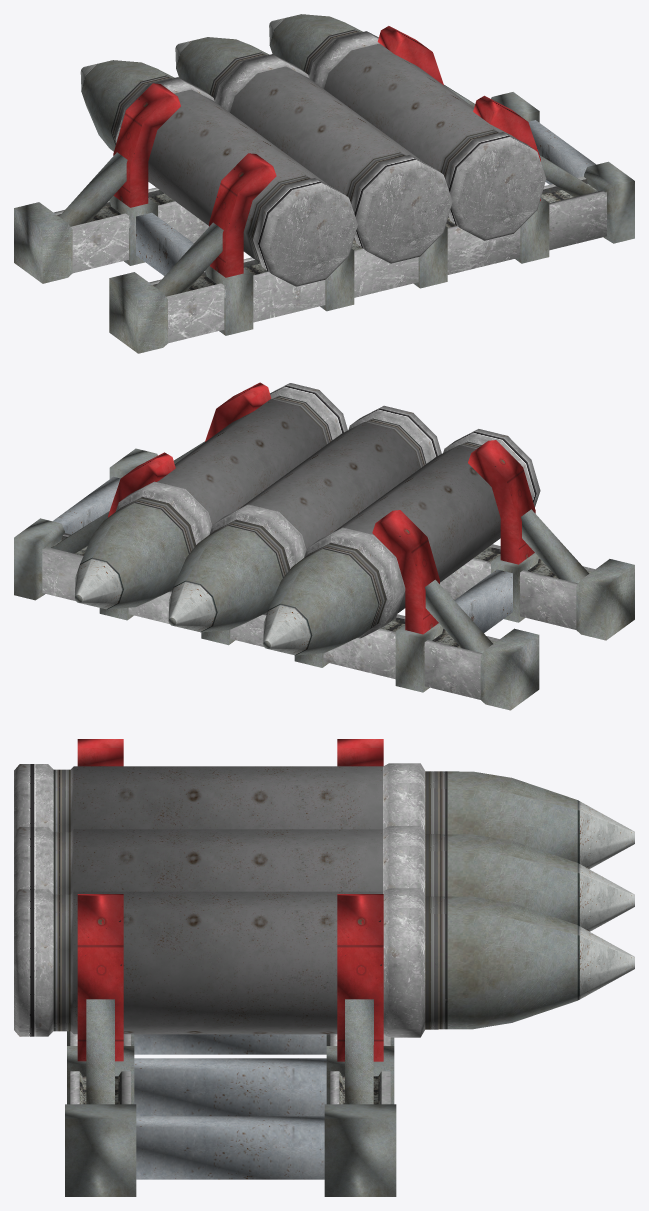
File: Ob_MissileRack3_RC.fbx
3 renders of one model, top to bottom at view 1: azimuth 30°, elevation 25°; view 2: azimuth 150°, elevation 25°; view 3: azimuth 270°, elevation 25°, orthographic. The views are drawn at different scales.
Visible parts, largest first — view 1: Ob_MissileRack3_RC; view 2: Ob_MissileRack3_RC; view 3: Ob_MissileRack3_RC.
Part boxes in pixels (x1=…): Ob_MissileRack3_RC: x1=14, y1=14, x2=634, y2=353; Ob_MissileRack3_RC: x1=14, y1=382, x2=634, y2=710; Ob_MissileRack3_RC: x1=14, y1=739, x2=634, y2=1196.
Size of the model in its own units: 1285 by 391 by 1020.
